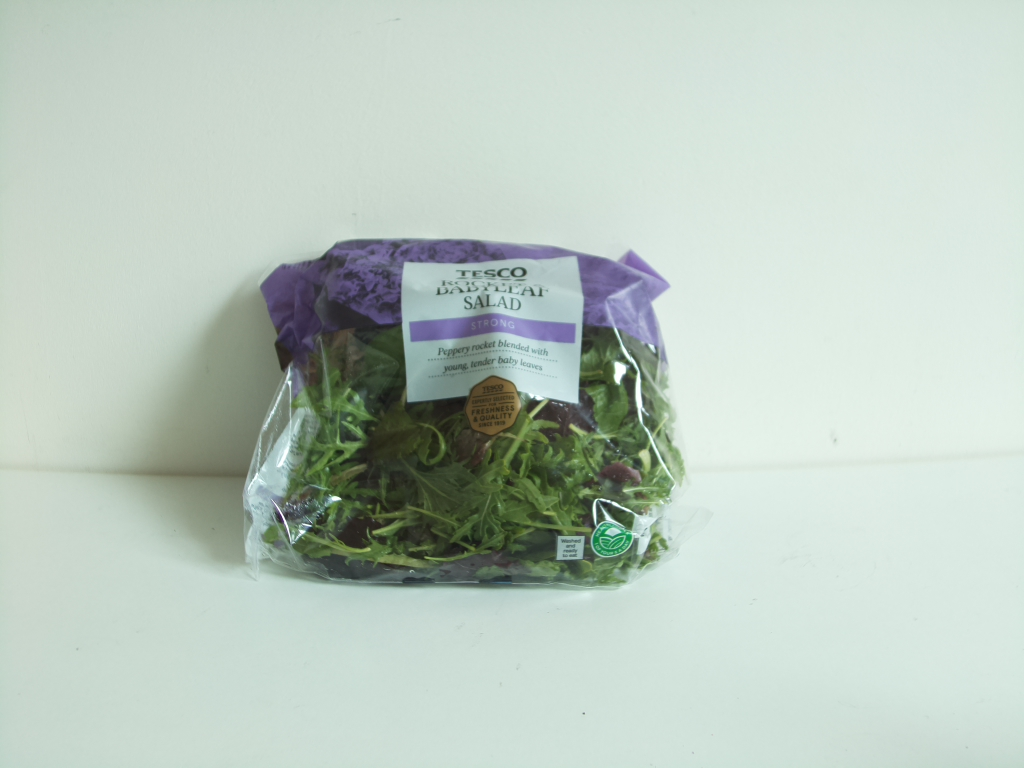salad: (236, 245, 677, 589)
